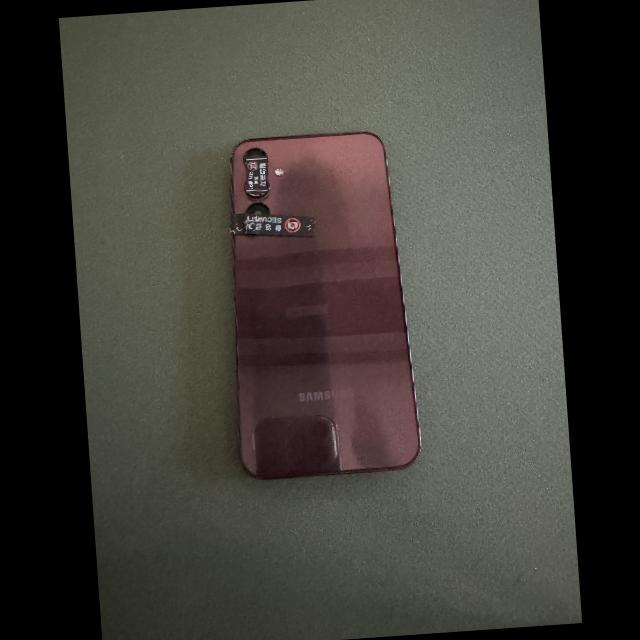lens: (247, 203, 270, 215), (245, 148, 266, 160)
phone: (230, 132, 420, 479)
sticker: (229, 213, 315, 236), (245, 155, 268, 194)
